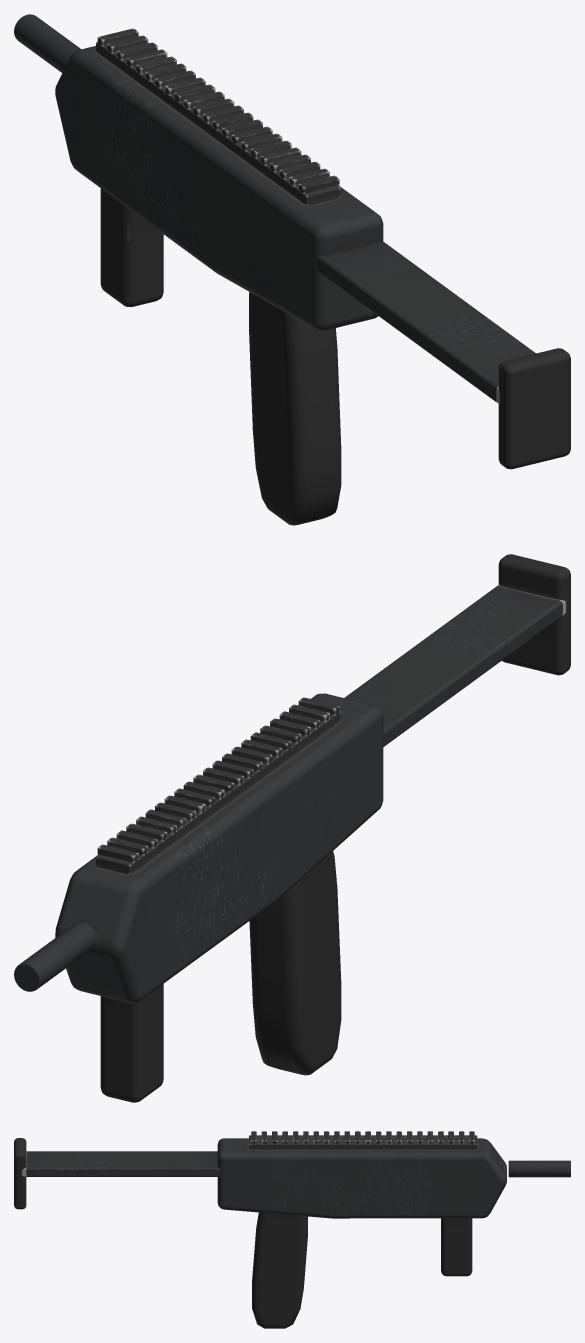
3 views of the same model, one above another, from view 1: azimuth 30°, elevation 25°; view 2: azimuth 150°, elevation 25°; view 3: azimuth 270°, elevation 25° (orthographic). The views are drawn at different scales.
Visible parts, largest first — view 1: Frame, Stock, Mag_body; view 2: Frame, Stock, Mag_body; view 3: Frame, Stock, Mag_body.
Part boxes in pixels (<box>): Frame: <box>14,14,383,330</box>; Stock: <box>316,241,570,469</box>; Mag_body: <box>249,292,341,525</box>; Frame: <box>14,693,383,1102</box>; Stock: <box>344,554,570,746</box>; Mag_body: <box>249,851,341,1075</box>; Frame: <box>217,1131,570,1276</box>; Stock: <box>14,1138,220,1209</box>; Mag_body: <box>252,1212,307,1328</box>.
Size of the model in its own units: 0.042 by 0.2 by 0.536.
3 materials, 3 textured.
